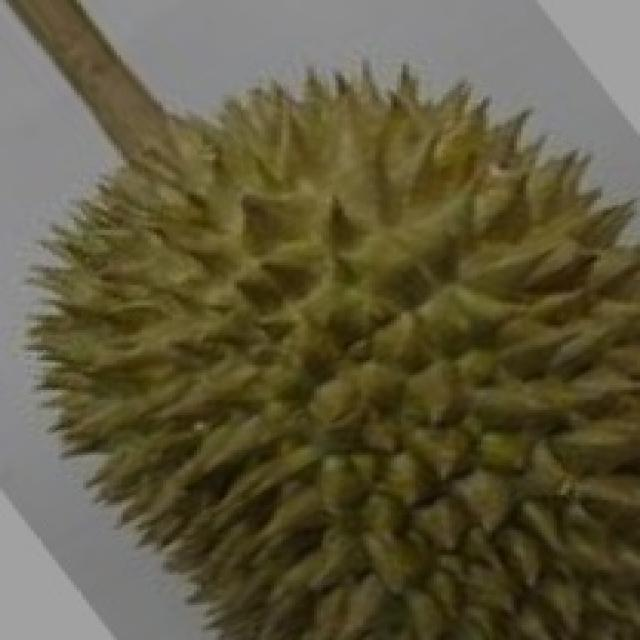fruit: (0, 235, 385, 637)
